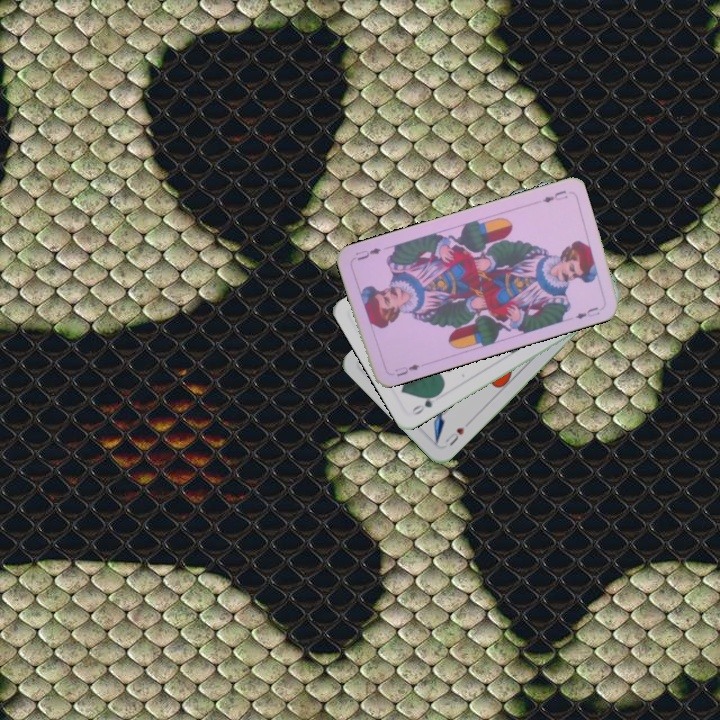EU: (538, 186, 570, 205), (391, 360, 422, 379)
GO: (408, 389, 443, 418)
HU: (441, 422, 467, 449)
